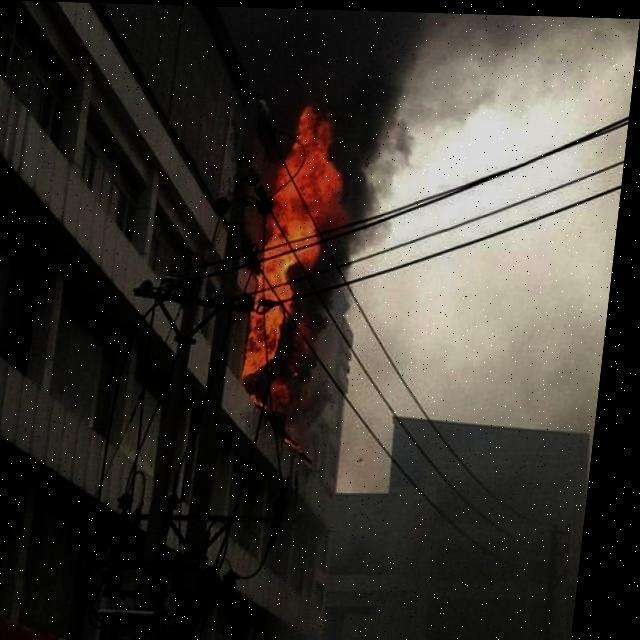Fire: (246, 102, 380, 446)
